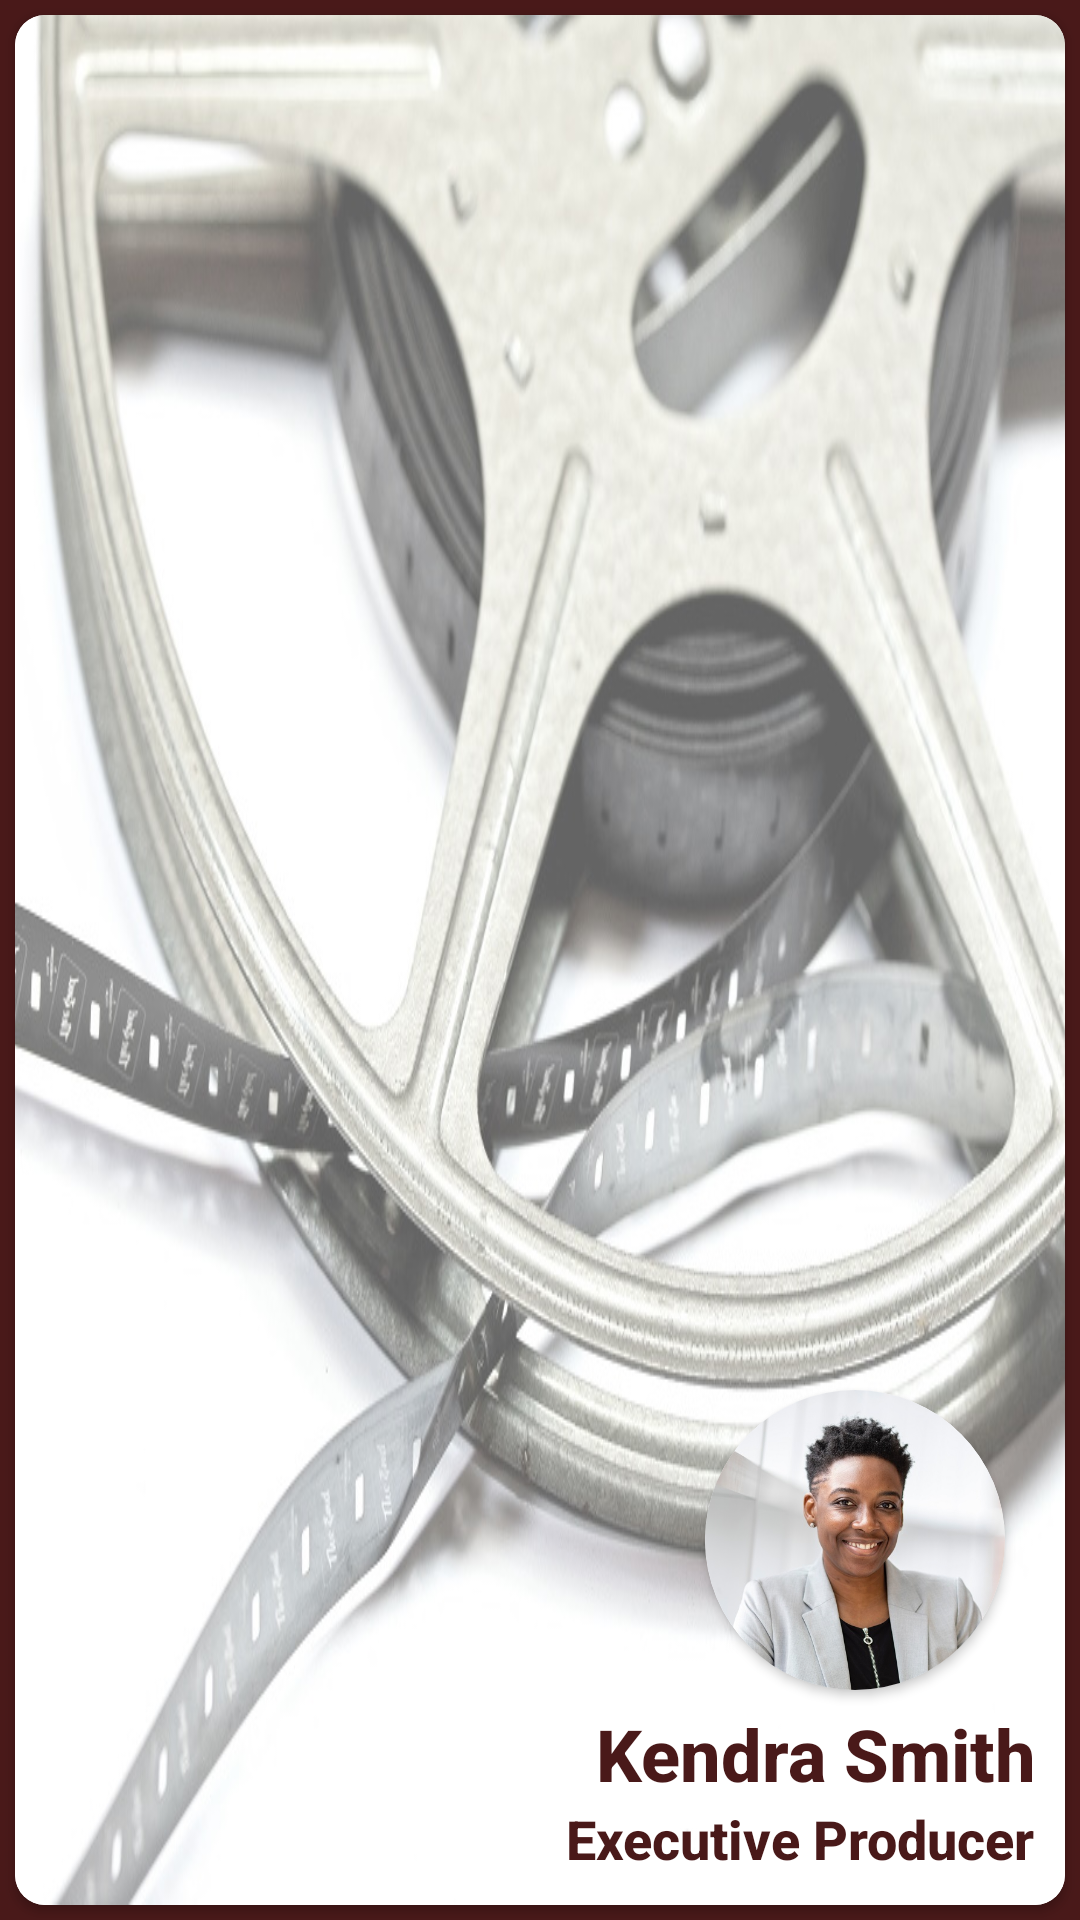

Screen size 1080*1920. Icon name, then its center in pixels as [x,y]:
profile picture: [855,1540]
